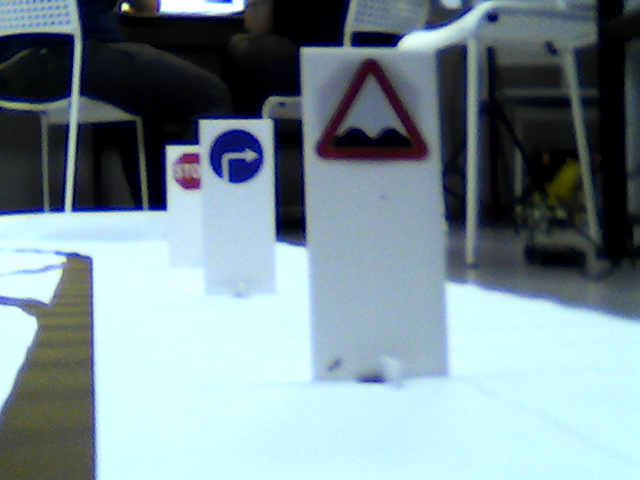Nerov: (312, 56, 428, 164)
Right: (208, 128, 263, 183)
Stop: (172, 153, 200, 188)
